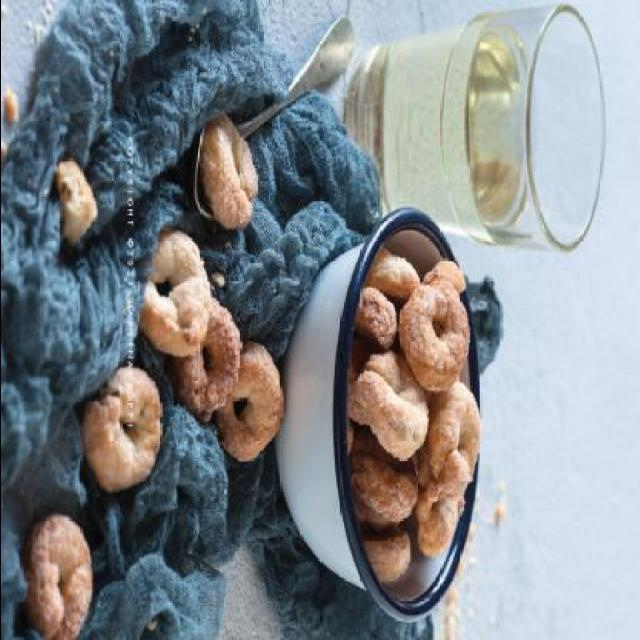Taralli: (88, 230, 280, 498), (354, 244, 483, 581), (32, 513, 94, 636), (201, 107, 261, 231)
